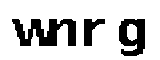g: (116, 15, 149, 59)
n: (49, 16, 78, 49)
r: (81, 17, 108, 49)
w: (9, 15, 54, 50)
